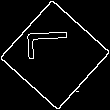L_E: (29, 38, 81, 72)
